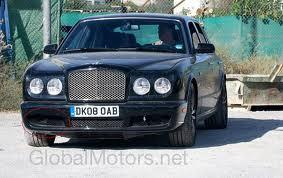Car: (13, 6, 255, 157)
